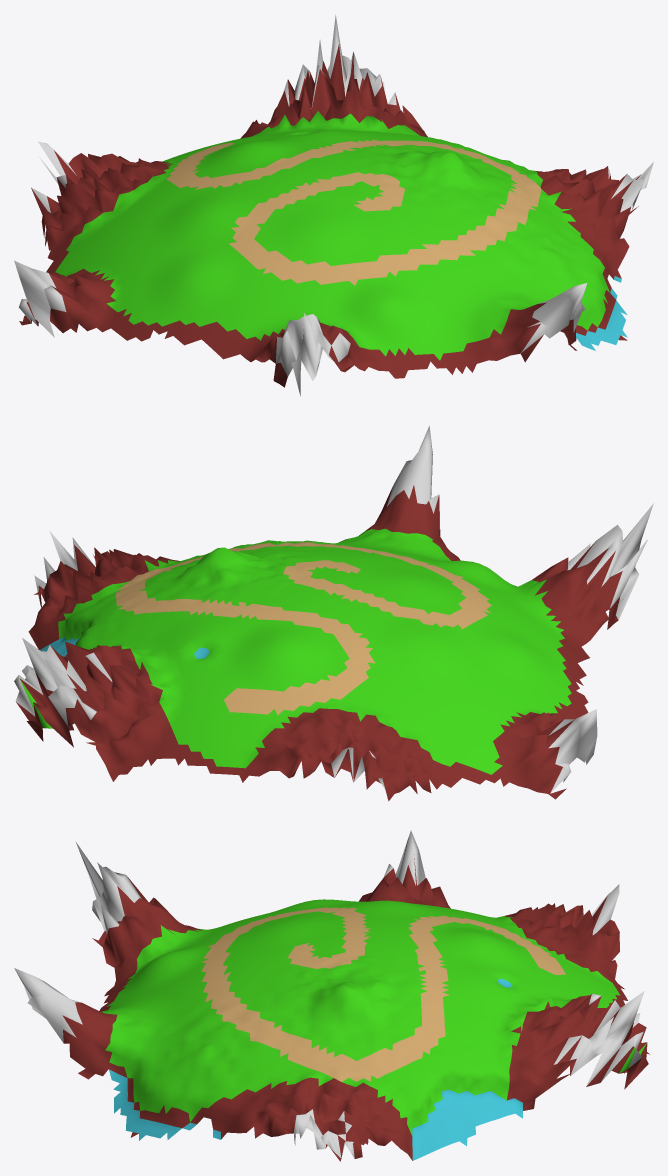
The model's file is ExportedBlenderFBXFile.fbx.
The picture shows the model from 3 angles, top to bottom: view 1: azimuth 30°, elevation 25°; view 2: azimuth 150°, elevation 25°; view 3: azimuth 270°, elevation 25°; orthographic projection. The views are drawn at different scales.
Visible parts, largest first — view 1: Icosphere; view 2: Icosphere; view 3: Icosphere.
Boxes of the visible parts, box(x1,y1,x2,y2) form: Icosphere: box(14, 15, 653, 396); Icosphere: box(14, 425, 653, 801); Icosphere: box(14, 830, 649, 1161).
Bounding box in the file's own units: 55.02 × 12.53 × 53.5.
